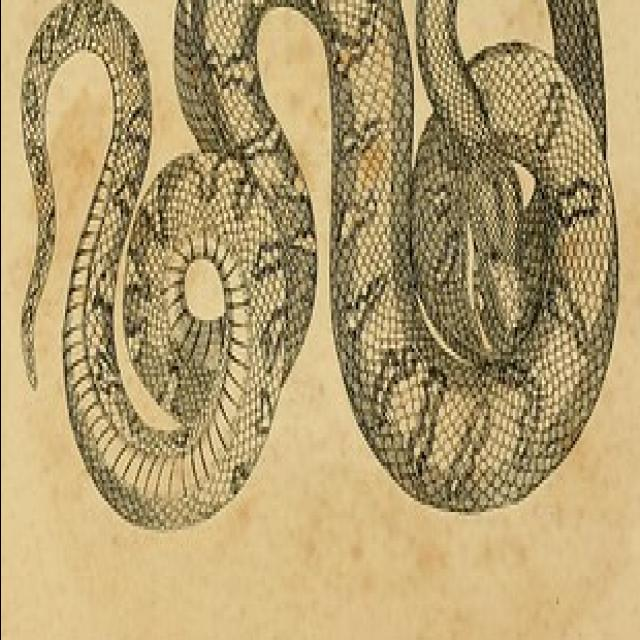Snake: (19, 0, 622, 533)
